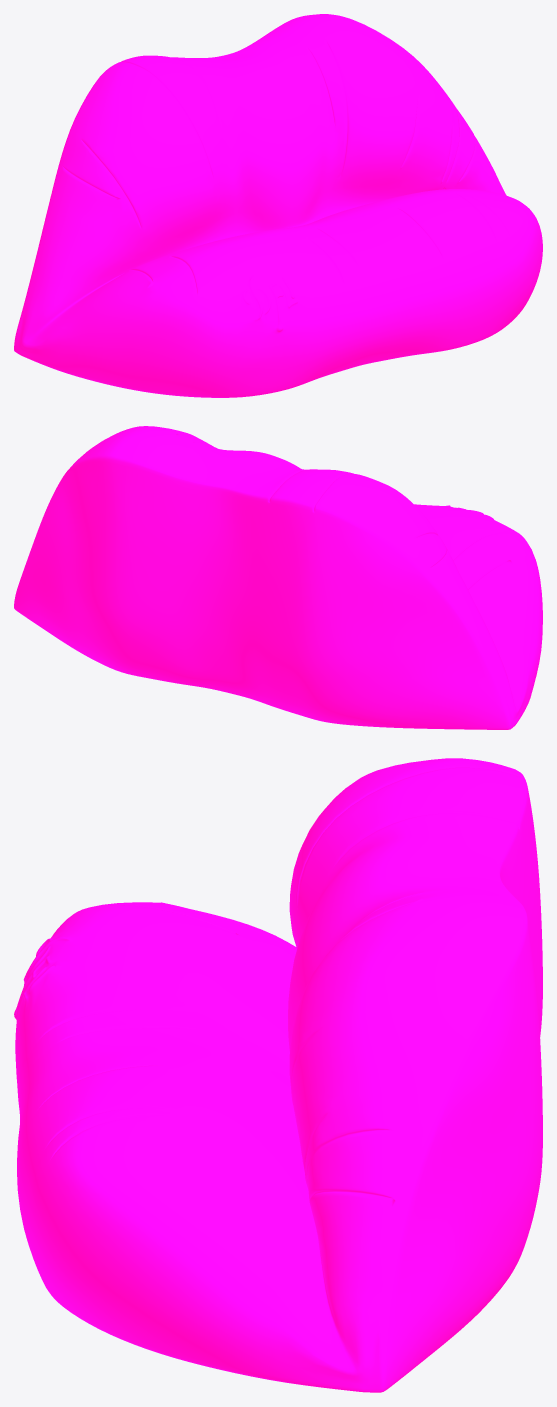
Rendered from dalilips3.fbx.
The picture shows the model from 3 angles, top to bottom: view 1: azimuth 30°, elevation 25°; view 2: azimuth 150°, elevation 25°; view 3: azimuth 270°, elevation 25°; orthographic projection. The views are drawn at different scales.
Parts seen in each view (by area): view 1: DALILIPS BD Barcelona Design; view 2: DALILIPS BD Barcelona Design; view 3: DALILIPS BD Barcelona Design.
Boxes of the visible parts, box(x1,y1,x2,y2) form: DALILIPS BD Barcelona Design: box(14, 14, 542, 397); DALILIPS BD Barcelona Design: box(14, 426, 542, 729); DALILIPS BD Barcelona Design: box(14, 758, 542, 1392).
Size of the model in its own units: 171 by 75.51 by 99.68.
